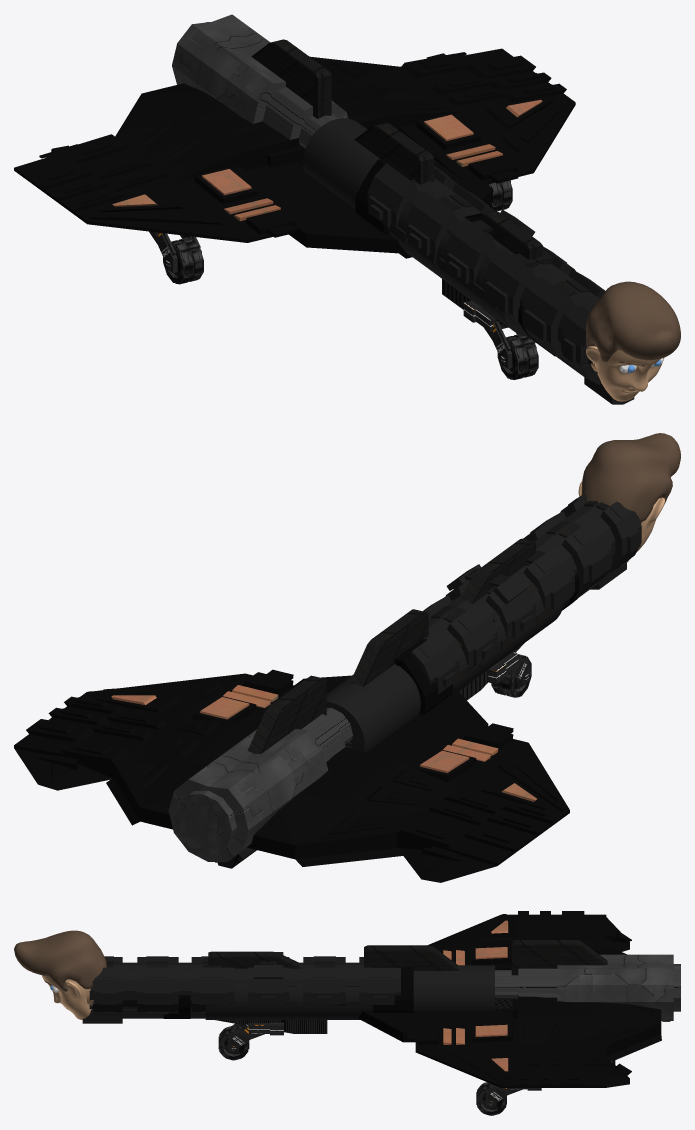
File: plane_demo.fbx
3 renders of one model, top to bottom at view 1: azimuth 30°, elevation 25°; view 2: azimuth 150°, elevation 25°; view 3: azimuth 270°, elevation 25°, orthographic. The views are drawn at different scales.
Visible parts, largest first — view 1: Cube.001; view 2: Cube.001; view 3: Cube.001.
Part boxes in pixels (left/top/right/bottom): Cube.001: left=14, top=14, right=680, bottom=404; Cube.001: left=14, top=433, right=680, bottom=882; Cube.001: left=14, top=911, right=680, bottom=1115.
Bounding box in the file's own units: 997 × 334 × 1620.
14 materials, 7 textured.
